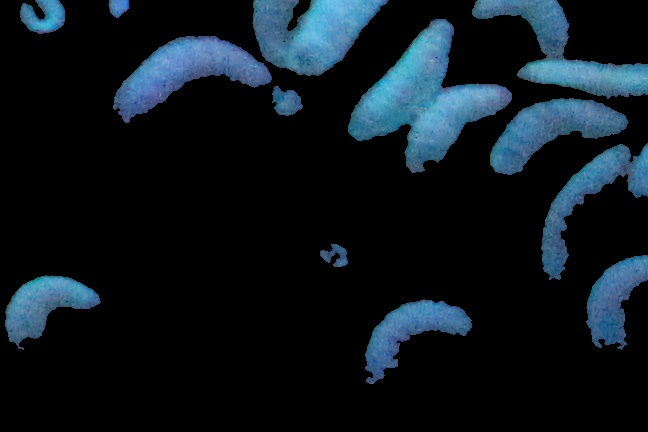larvae: (351, 21, 457, 146), (114, 33, 270, 115), (539, 146, 626, 289), (362, 292, 474, 387), (497, 99, 629, 171), (285, 1, 413, 73), (409, 84, 511, 166), (583, 240, 648, 363), (1, 271, 103, 347), (517, 52, 648, 89), (471, 1, 570, 48), (248, 1, 294, 71), (19, 1, 68, 37)
